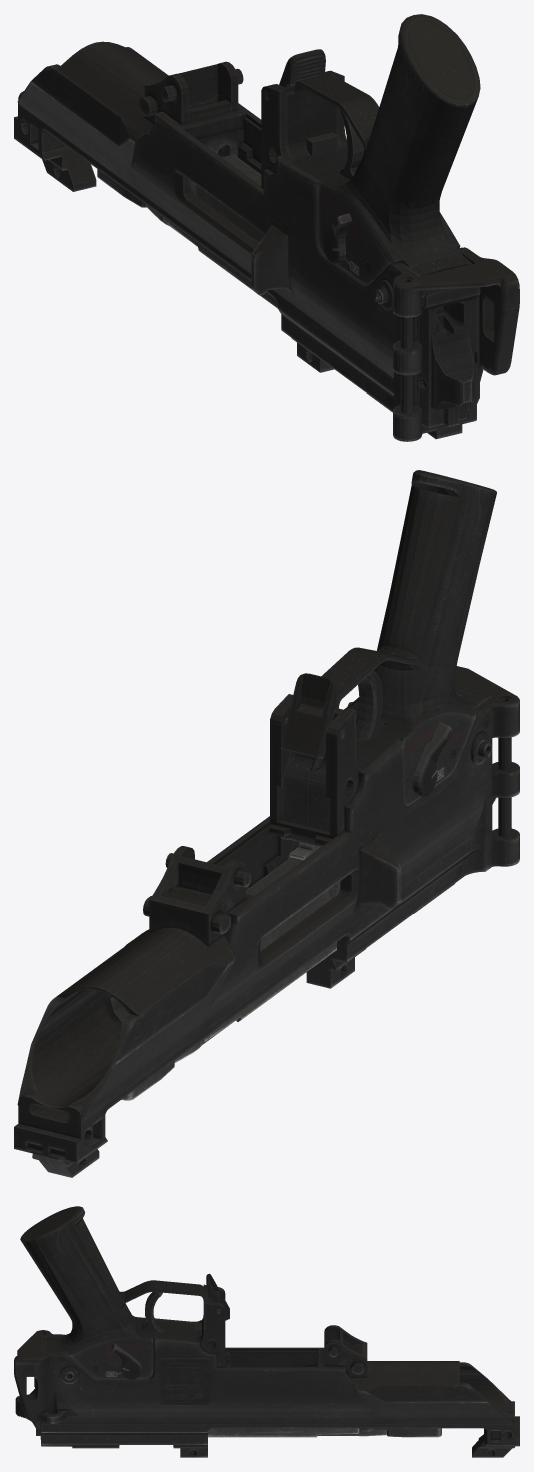
The picture shows the model from 3 angles, top to bottom: view 1: azimuth 30°, elevation 25°; view 2: azimuth 150°, elevation 25°; view 3: azimuth 270°, elevation 25°; orthographic projection. The views are drawn at different scales.
Visible parts, largest first — view 1: TW_623063e994fc3f7b302a9696_PZ_Import; view 2: TW_623063e994fc3f7b302a9696_PZ_Import; view 3: TW_623063e994fc3f7b302a9696_PZ_Import.
Part boxes in pixels (x1,y1,x2,y2): TW_623063e994fc3f7b302a9696_PZ_Import: (14, 14, 519, 441); TW_623063e994fc3f7b302a9696_PZ_Import: (14, 470, 519, 1177); TW_623063e994fc3f7b302a9696_PZ_Import: (14, 1206, 519, 1457).
Size of the model in its own units: 0.0364 by 0.2153 by 0.1153.
1 material, 1 textured.
